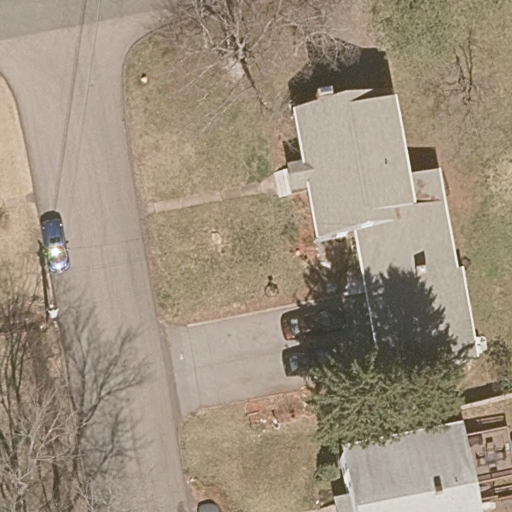DT: (44, 297, 60, 330)
